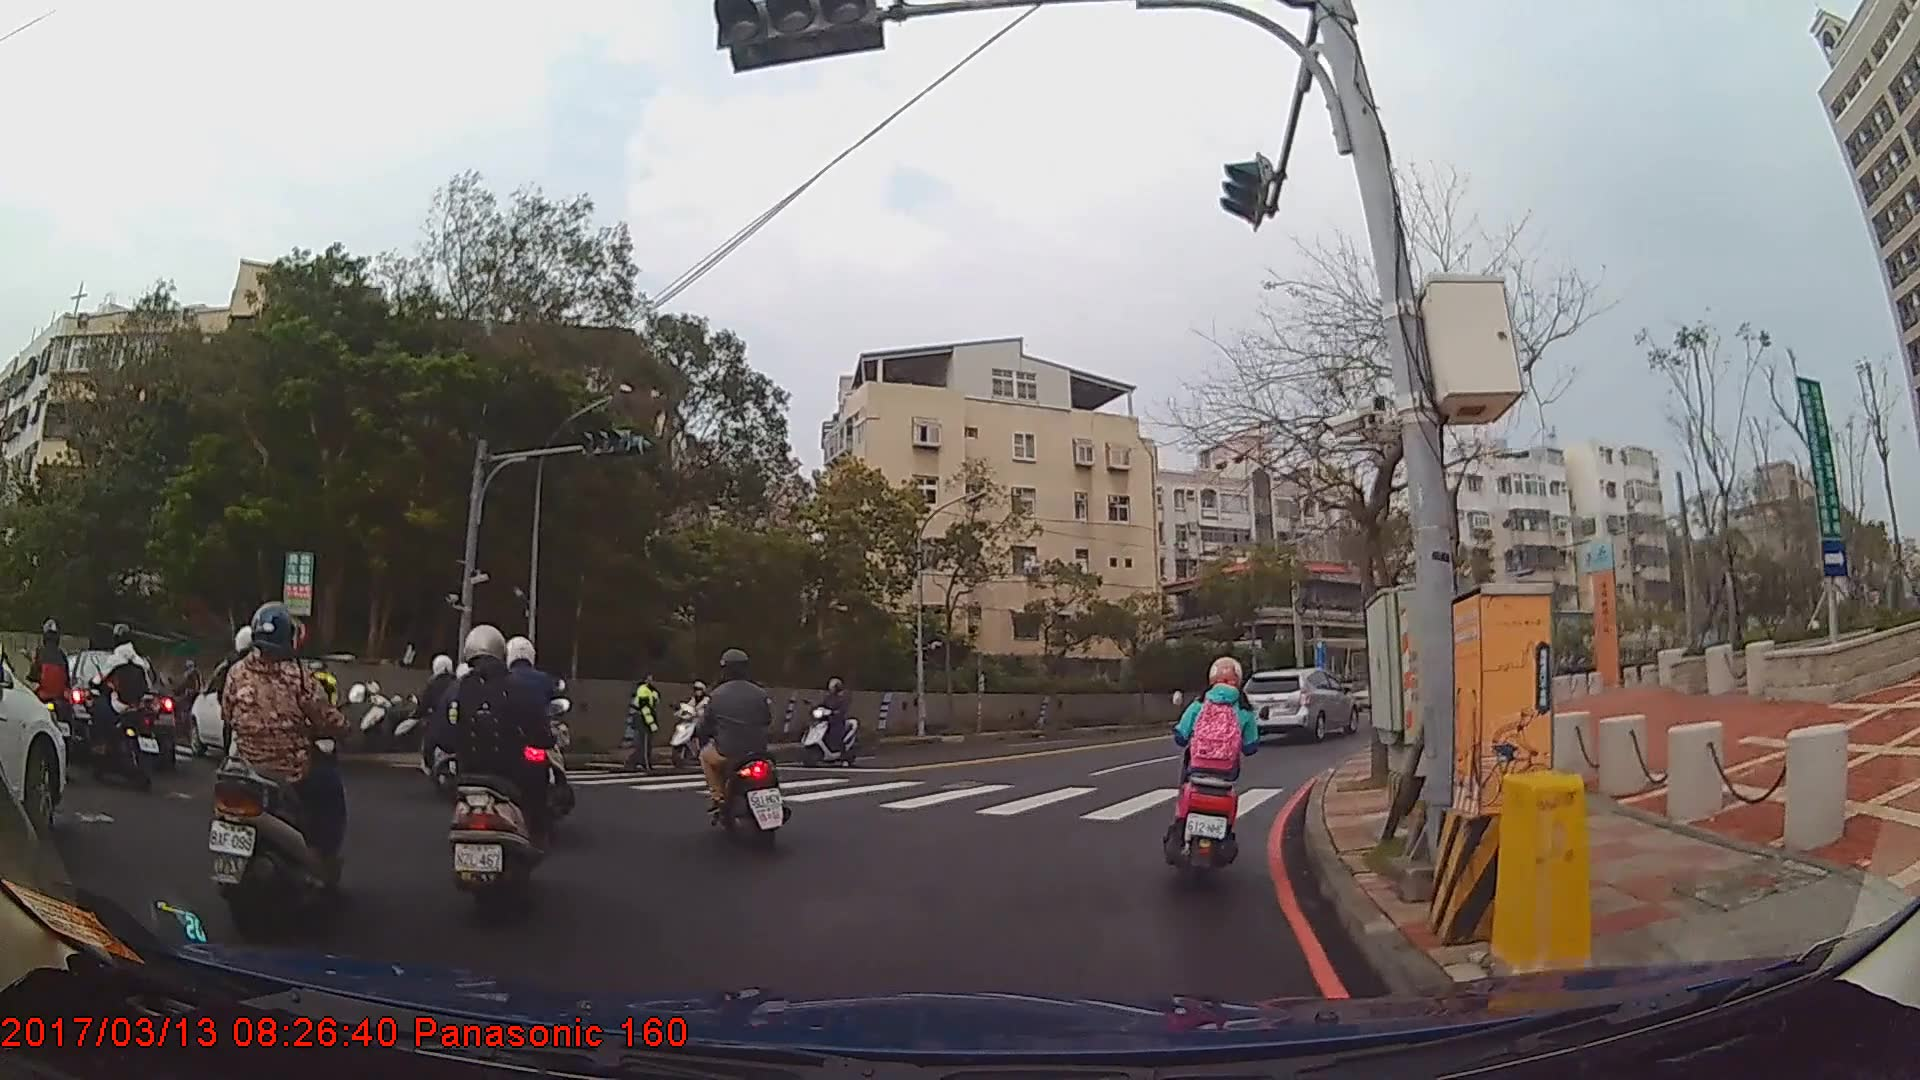pedestrian: (623, 671, 663, 777)
rider: (204, 603, 353, 930), (435, 622, 555, 908), (1171, 654, 1265, 876), (694, 648, 791, 852), (491, 634, 575, 830), (400, 656, 478, 800), (88, 622, 152, 784), (14, 621, 69, 774), (802, 678, 859, 768), (668, 677, 722, 761)
vehicle: (61, 649, 174, 766), (0, 645, 66, 835), (1233, 665, 1357, 745)
